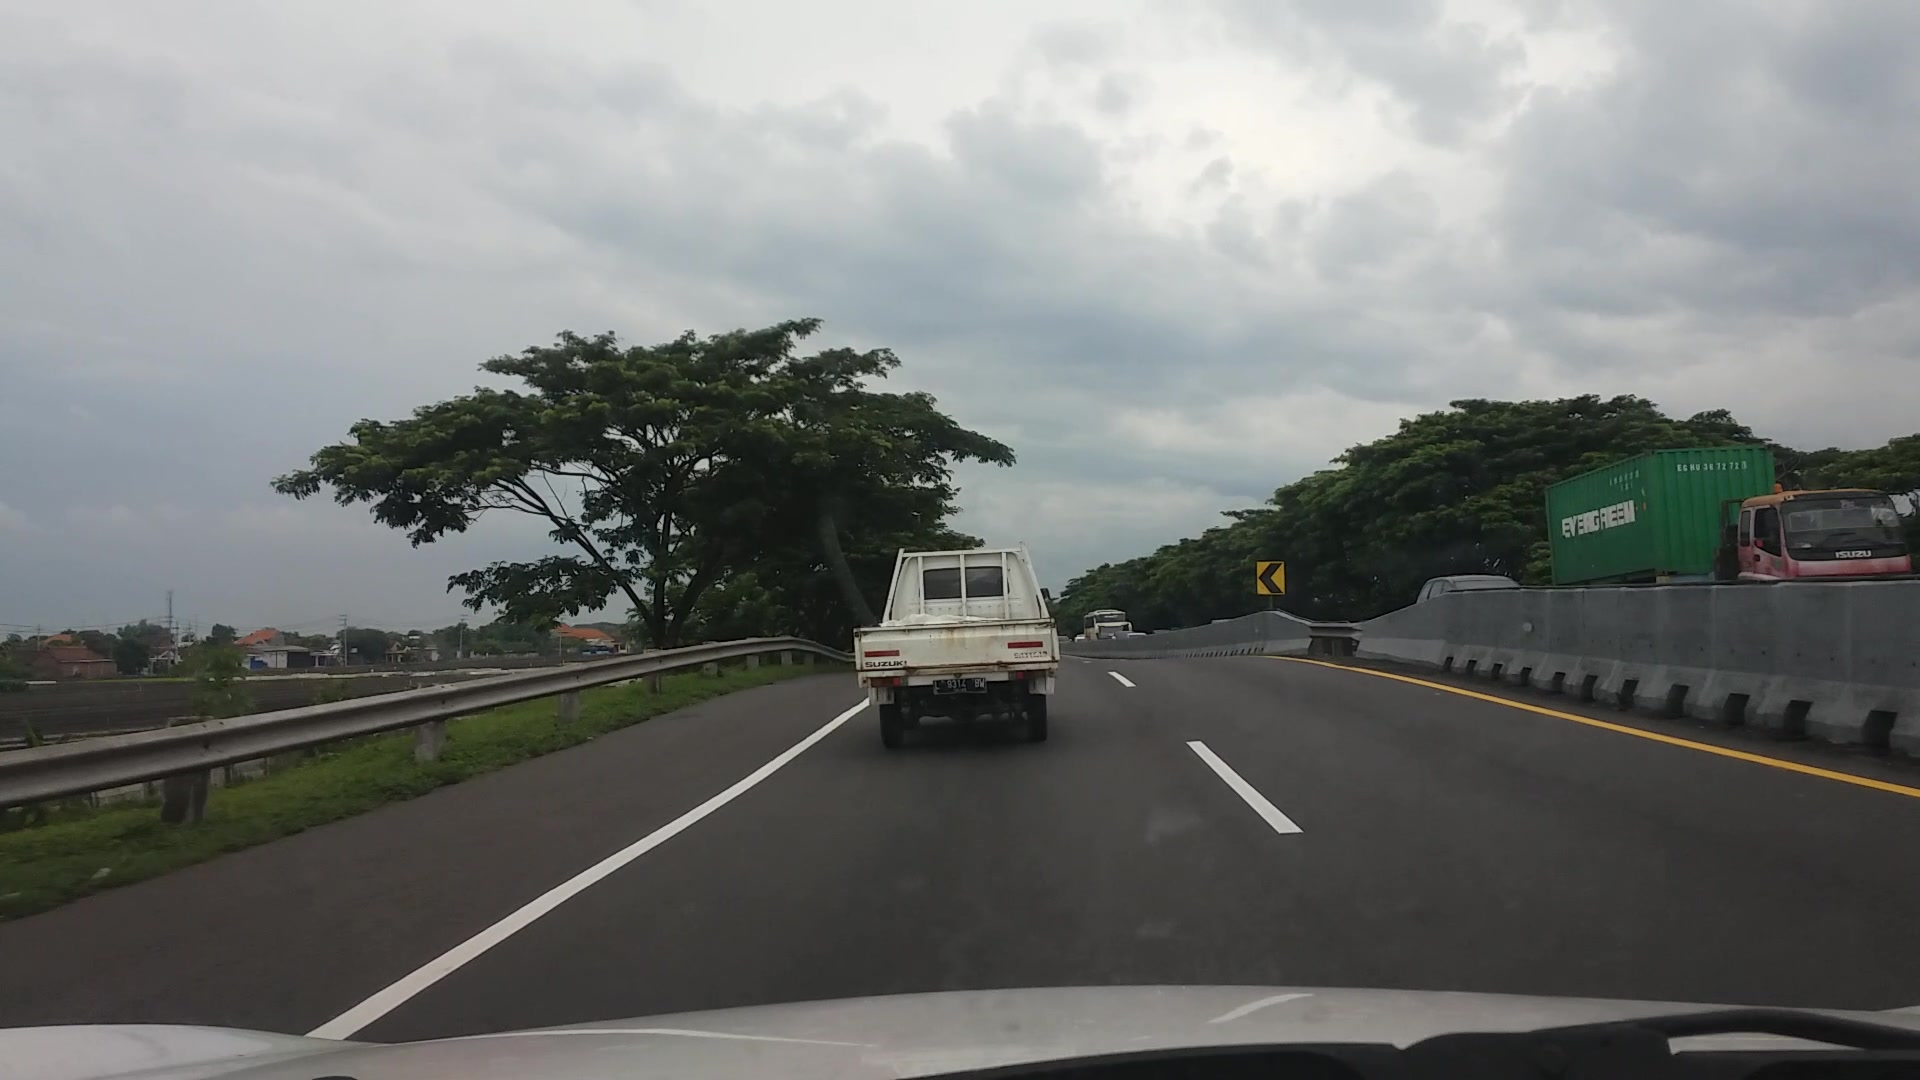plate_positive: (932, 678, 986, 694)
